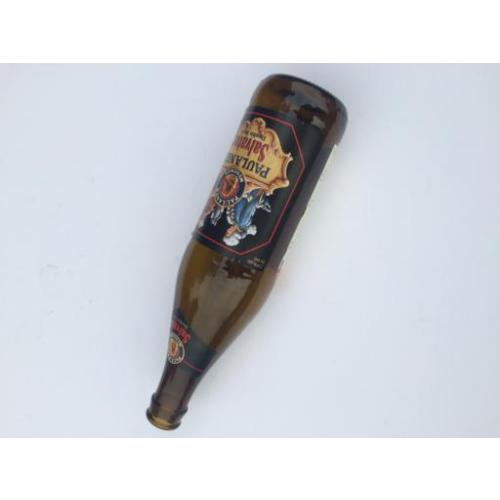glass: (151, 74, 347, 428)
